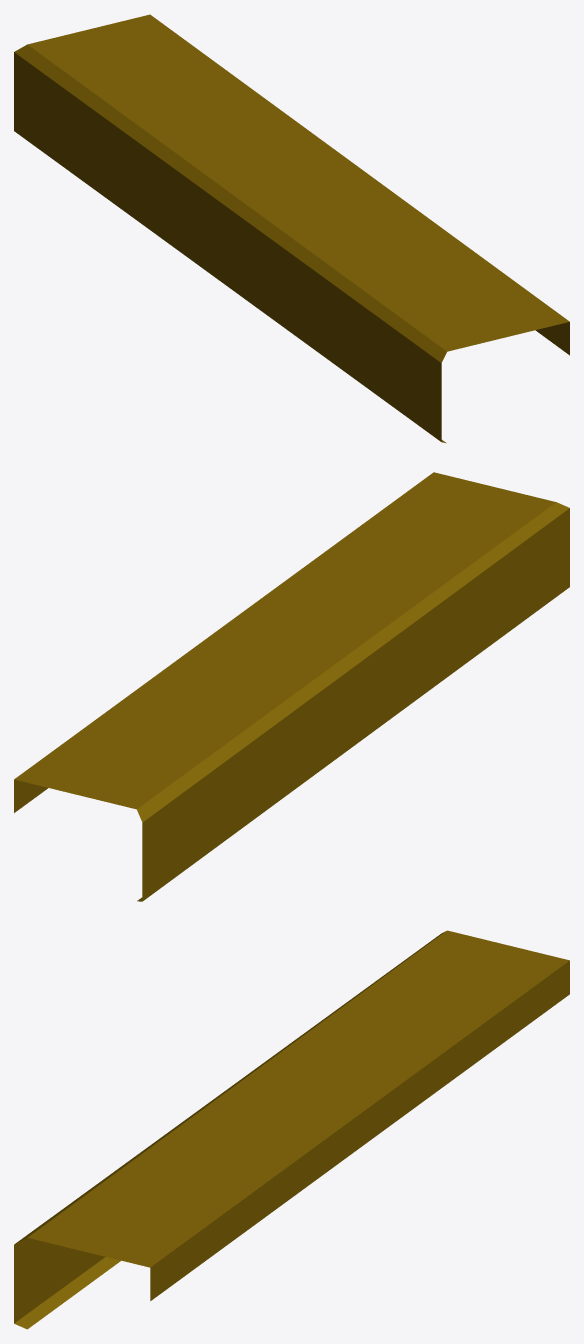
File: mesh_BuildingA_WallCapRoof_v2.fbx
3 renders of one model, top to bottom at view 1: azimuth 30°, elevation 25°; view 2: azimuth 150°, elevation 25°; view 3: azimuth 330°, elevation 25°, orthographic.
Parts seen in each view (by area): view 1: mesh_BuildingA_WallCapRoof; view 2: mesh_BuildingA_WallCapRoof; view 3: mesh_BuildingA_WallCapRoof.
Boxes of the visible parts, x1,y1,x2,y2 form: mesh_BuildingA_WallCapRoof: (14,14,569,443); mesh_BuildingA_WallCapRoof: (14,472,569,901); mesh_BuildingA_WallCapRoof: (14,930,569,1329).
Size of the model in its own units: 29.77 by 19.73 by 167.
